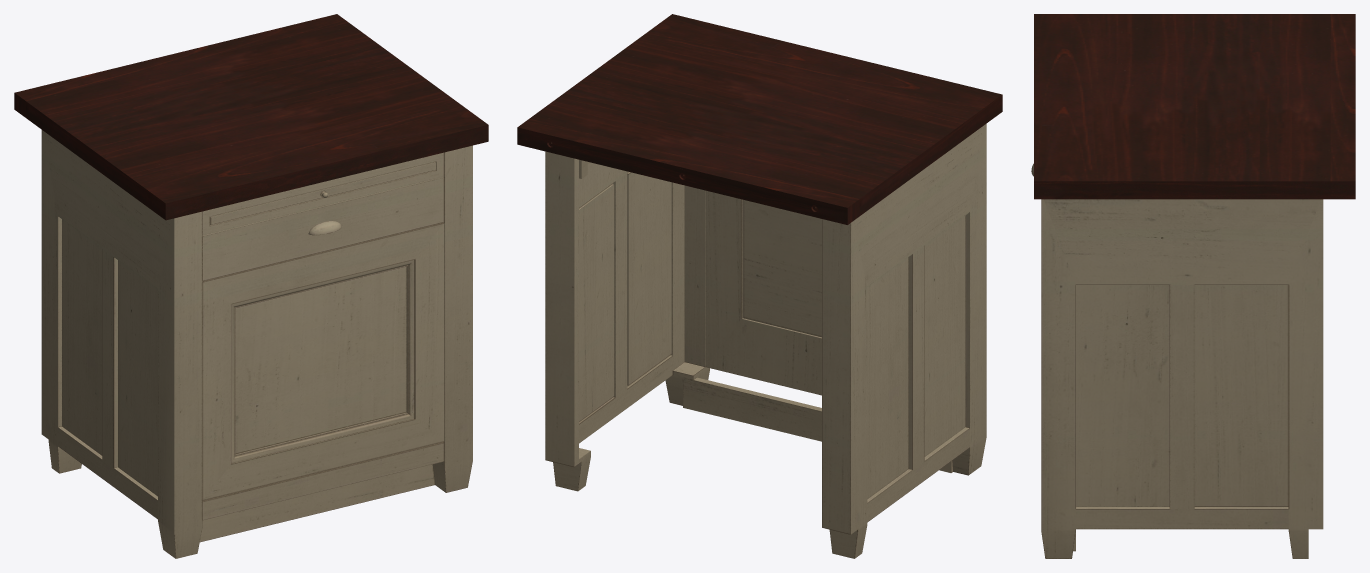
Rendered from exzmple60.gltf.
3 views of the same model, side by side, from view 1: azimuth 30°, elevation 25°; view 2: azimuth 150°, elevation 25°; view 3: azimuth 270°, elevation 25° (orthographic). The views are drawn at different scales.
Size of the model in its own units: 80 by 86 by 65.5.
Materials: 2 (2 with a texture image).
